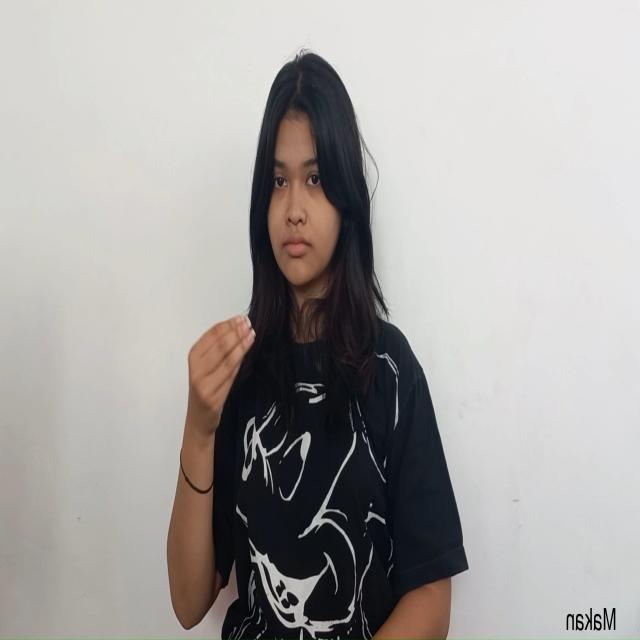Makan -BISINDO-: (182, 310, 256, 448)
